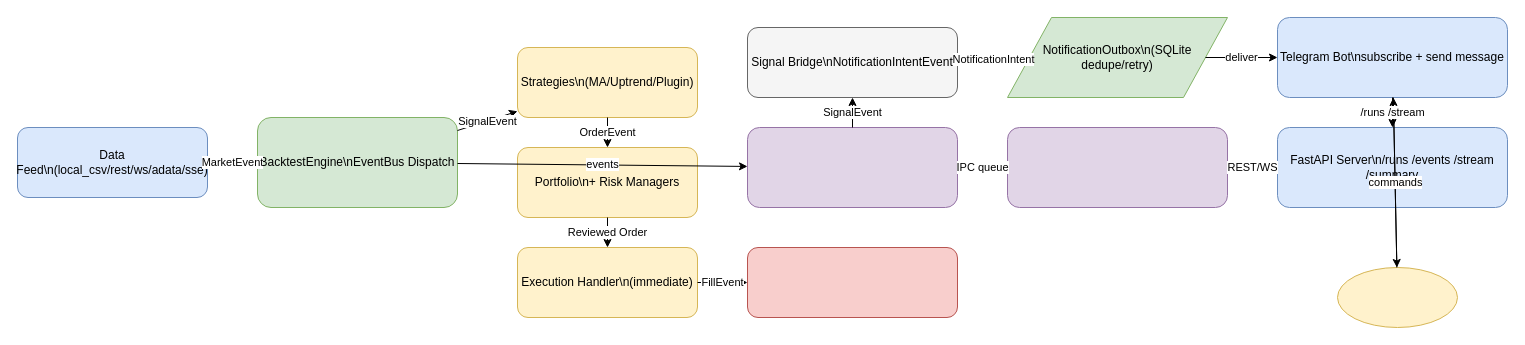
This 1525x345 diagram has some shape labels left out. The centre of each missing label's shape, as x and y in pixels:
apps/server/worker.py\nserialize events: point (852, 167)
Reporters\n(equity/detailed/tradelog): point (852, 282)
RunManager\nprocess + queue + event cache: point (1117, 167)
Telegram User: point (1397, 297)
